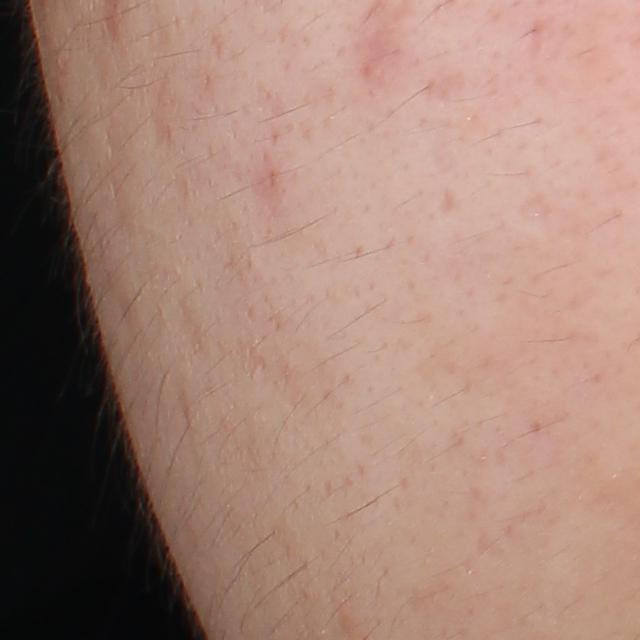atrophic_scar: (423, 61, 471, 101), (515, 192, 551, 222), (435, 184, 458, 215)
